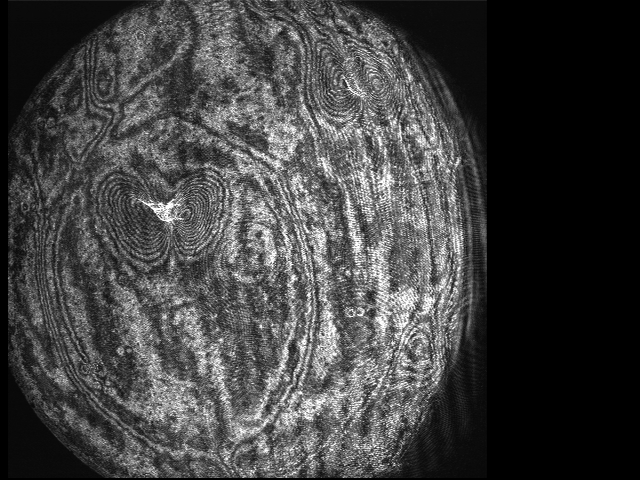plume: (103, 169, 228, 264)
